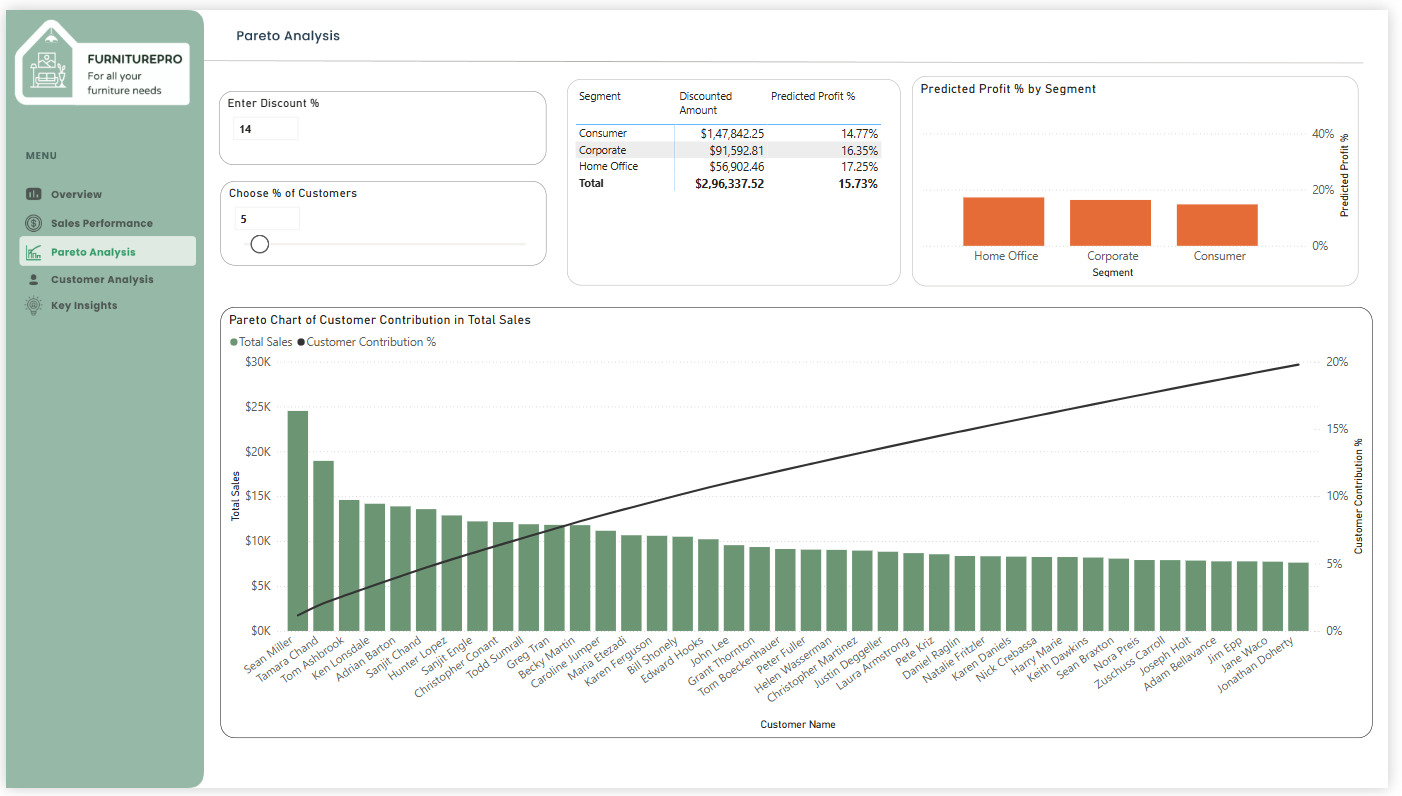

The page's visual inventory and layout, read from the dashboard file:
{"tool":"powerbi","page":{"name":"Pareto Analysis","canvas":[1920,1080],"ordinal":2},"visuals":[{"type":"actionButton","box":[12,236,260,38],"z":0,"group":"g1"},{"type":"slicer","title":"Choose % of Customers","fields":{"Values":["Pareto Parameter.Pareto Parameter"]},"box":[297.6,236.9,453,117.5],"z":0},{"type":"actionButton","box":[20,274,246,40],"z":1000,"group":"g1"},{"type":"lineClusteredColumnComboChart","title":"Pareto Chart of Customer Contribution in Total Sales","fields":{"Y":["Measures (2).Total Sales"],"Category":["Customer Dim.Customer Name"],"Y2":["Measures (2).Customer Contribution %"]},"box":[297.6,413.2,1599.7,598.9],"z":1000},{"type":"columnChart","fields":{"Category":["Orders Fact.Segment"],"Y":["Measures (2).Predicted_Profit_Percentage"]},"box":[1258.5,91,619.8,291.9],"z":2000},{"type":"actionButton","box":[20,313.3,246.7,40],"z":2000,"group":"g1"},{"type":"slicer","title":"Enter Discount  %","fields":{"Values":["Discount %.Discount %"]},"box":[295.7,111.8,454.9,102.3],"z":3000},{"type":"actionButton","box":[20,353.3,246.7,40],"z":3000,"group":"g1"},{"type":"group","id":"g1","title":"Group 2","box":[12,236,260,197.3],"z":4000},{"type":"actionButton","box":[20,393.3,246.7,40],"z":4000,"group":"g1"},{"type":"pivotTable","fields":{"Values":["Measures (2).Parameter Discount Amount","Measures (2).Predicted_Profit_Percentage"],"Rows":["Orders Fact.Segment"]},"box":[778.3,95.7,463,287],"z":6000}]}

Visuals, with their boxes on the page's 1920x1080 design canvas (x1, y1, x2, y2). These are canvas units, not pixel positions in the 1402x796 screenshot, which may show the page scaled, cropped or inside an application window:
actionButton: pyautogui.locateOnScreen(12, 236, 272, 274)
"Choose % of Customers" slicer: pyautogui.locateOnScreen(298, 237, 751, 354)
actionButton: pyautogui.locateOnScreen(20, 274, 266, 314)
"Pareto Chart of Customer Contribution in Total Sales" lineClusteredColumnComboChart: pyautogui.locateOnScreen(298, 413, 1897, 1012)
columnChart - Orders Fact.Segment x Measures (2).Predicted_Profit_Percentage: pyautogui.locateOnScreen(1258, 91, 1878, 383)
actionButton: pyautogui.locateOnScreen(20, 313, 267, 353)
"Enter Discount  %" slicer: pyautogui.locateOnScreen(296, 112, 751, 214)
actionButton: pyautogui.locateOnScreen(20, 353, 267, 393)
"Group 2" group: pyautogui.locateOnScreen(12, 236, 272, 433)
actionButton: pyautogui.locateOnScreen(20, 393, 267, 433)
pivotTable - Measures (2).Parameter Discount Amount x Measures (2).Predicted_Profit_Percentage: pyautogui.locateOnScreen(778, 96, 1241, 383)
